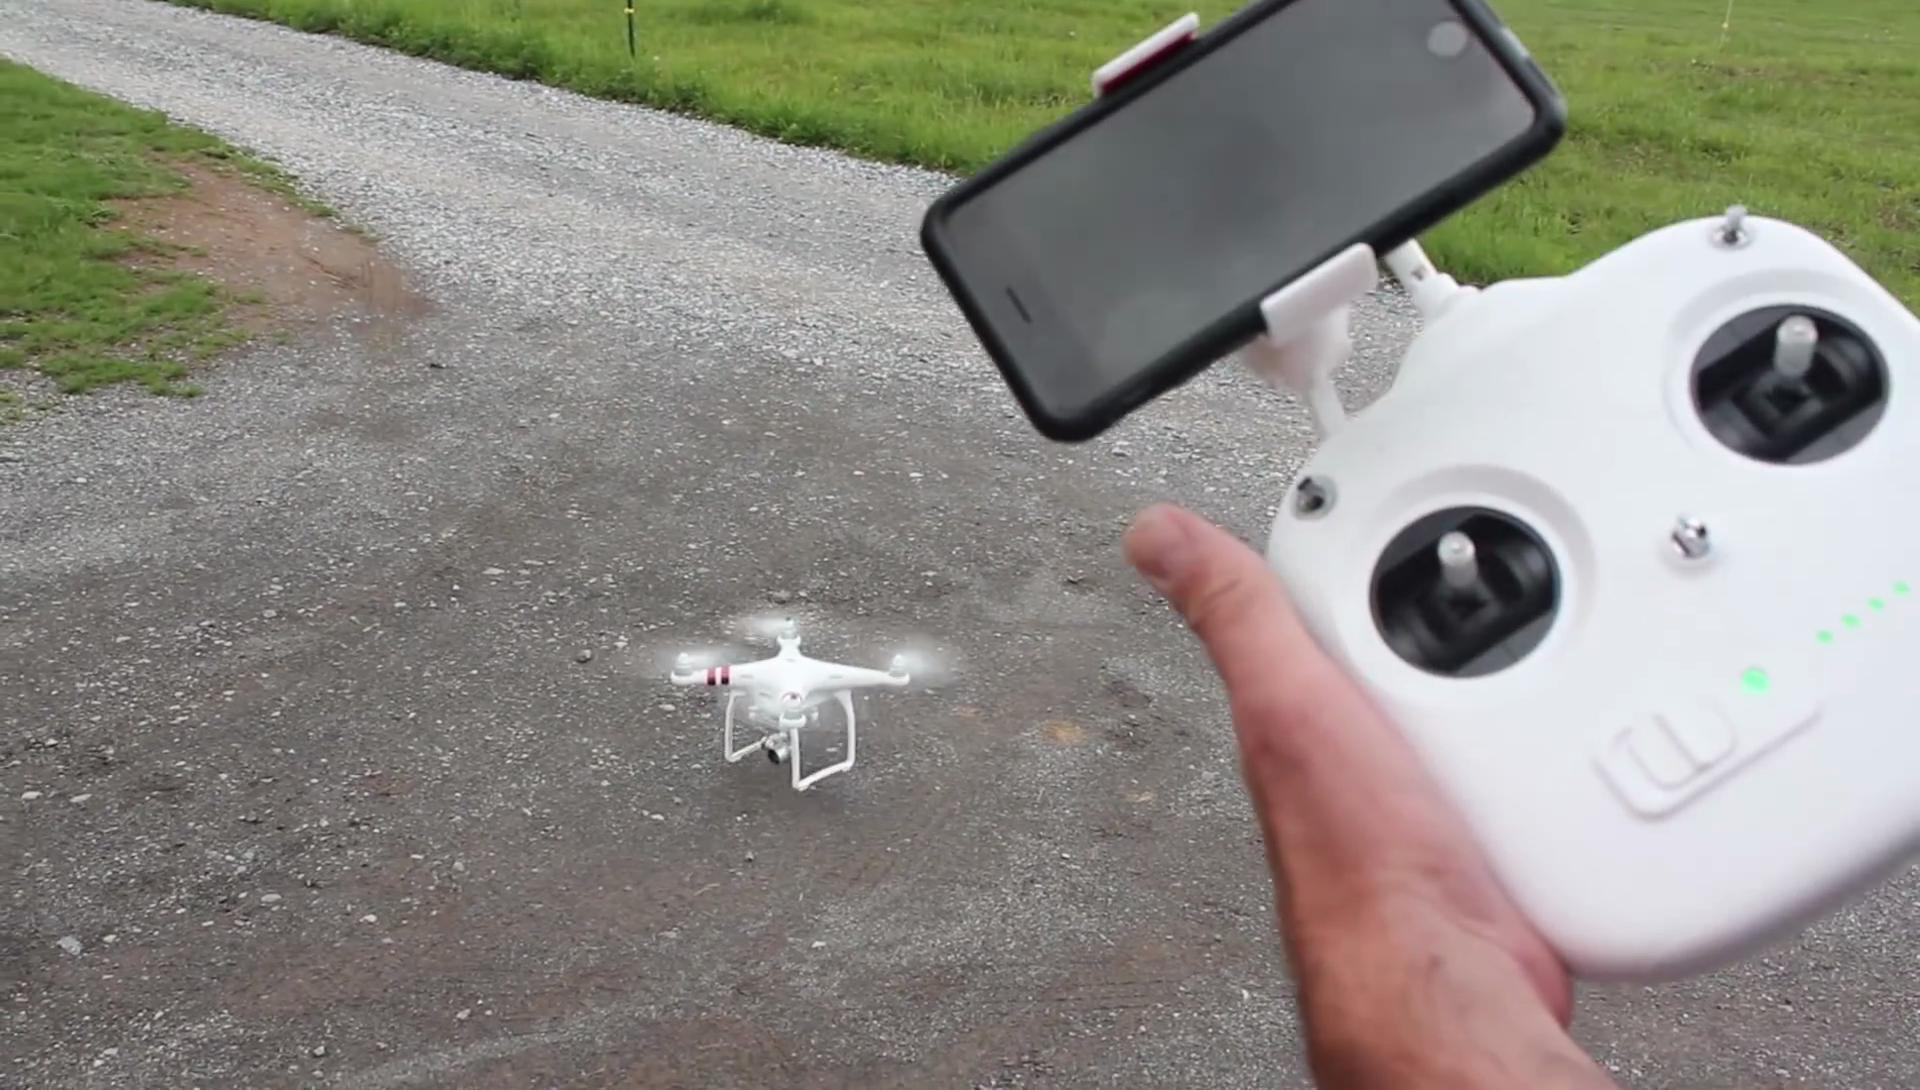drone: (662, 605, 920, 795)
